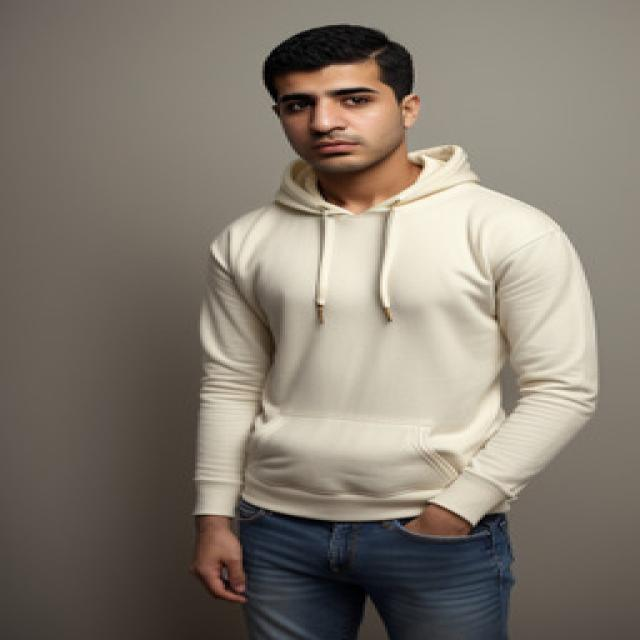Ai human 2: (172, 15, 608, 640)
